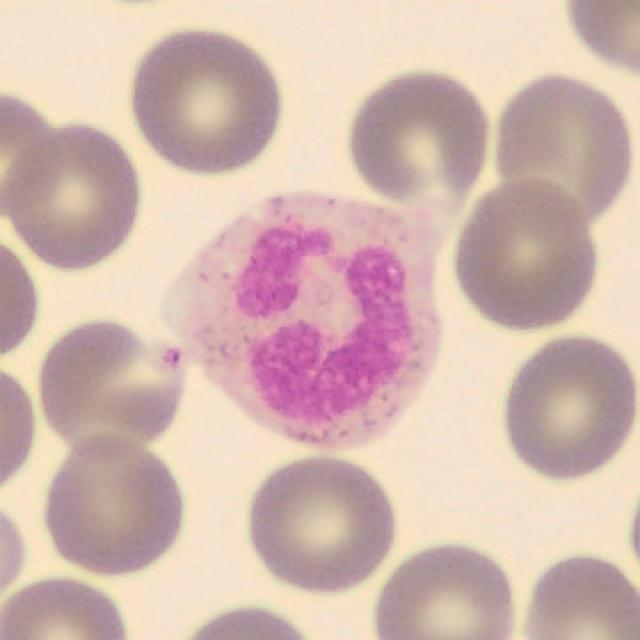Neutrofilo segmentado: (156, 190, 444, 448)
